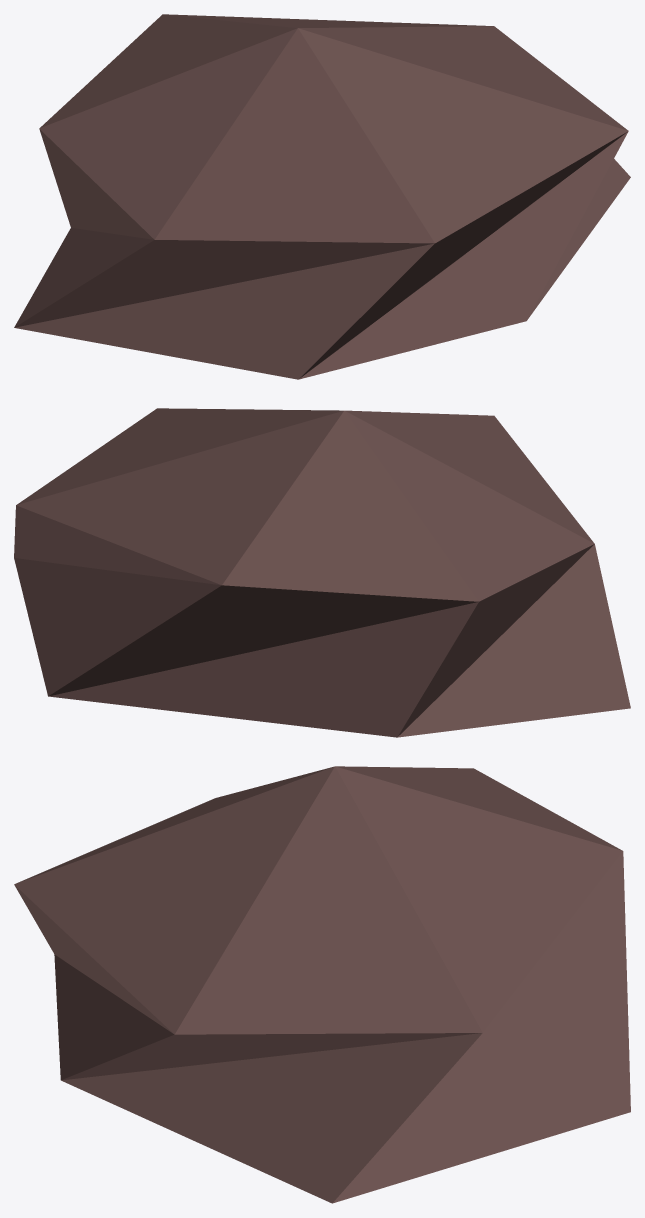
File: item_rm_bioferrite_a.obj
3 renders of one model, top to bottom at view 1: azimuth 30°, elevation 25°; view 2: azimuth 150°, elevation 25°; view 3: azimuth 270°, elevation 25°, orthographic. The views are drawn at different scales.
Size of the model in its own units: 0.6131 by 0.2176 by 0.4748.
